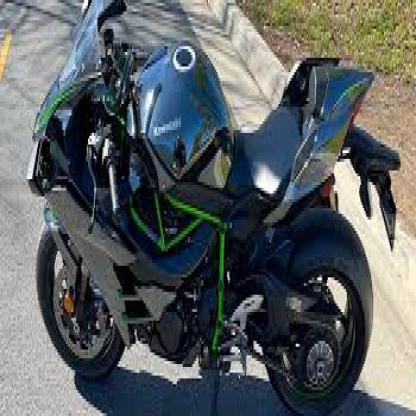Motorcycle: (19, 0, 404, 413)
